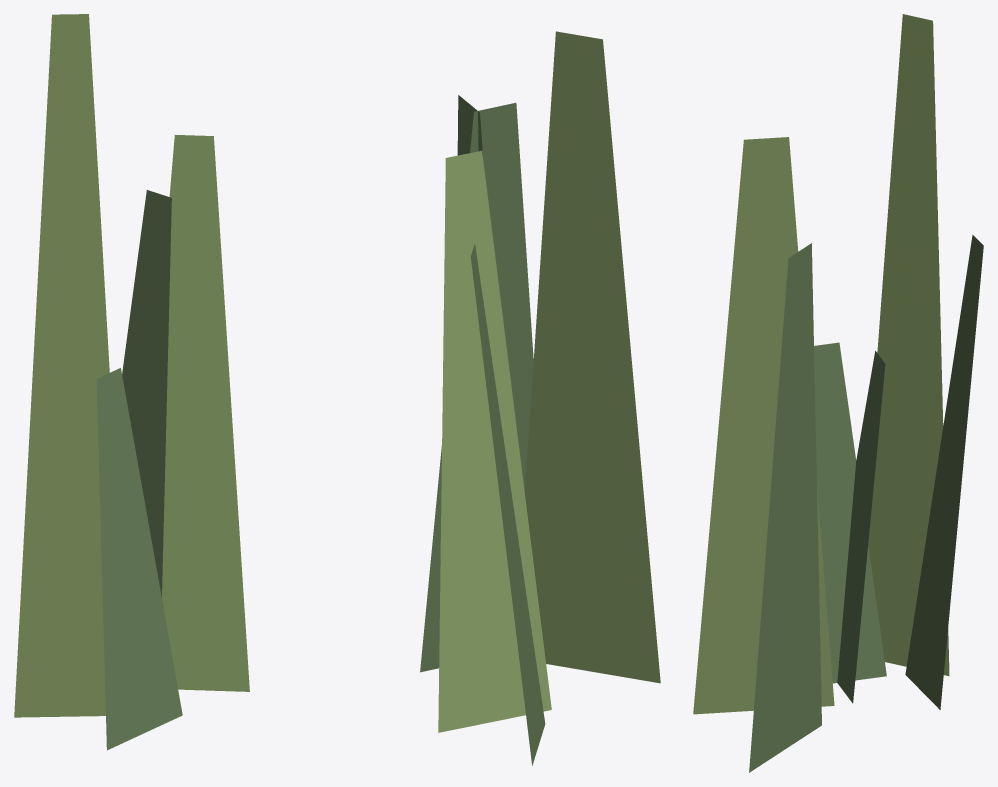
Rendered from nong.mai@subadult__summer.glb.
The picture shows the model from 3 angles, left to right: view 1: azimuth 30°, elevation 25°; view 2: azimuth 150°, elevation 25°; view 3: azimuth 270°, elevation 25°; orthographic projection. The views are drawn at different scales.
Parts seen in each view (by area): view 1: nong.mai@subadult__summer; view 2: nong.mai@subadult__summer; view 3: nong.mai@subadult__summer.
Part boxes in pixels (left/top/right/bottom): nong.mai@subadult__summer: left=14, top=14, right=249, bottom=750; nong.mai@subadult__summer: left=420, top=31, right=660, bottom=765; nong.mai@subadult__summer: left=693, top=14, right=983, bottom=772.
Bounding box in the file's own units: 0.2109 × 0.4917 × 0.2037.
